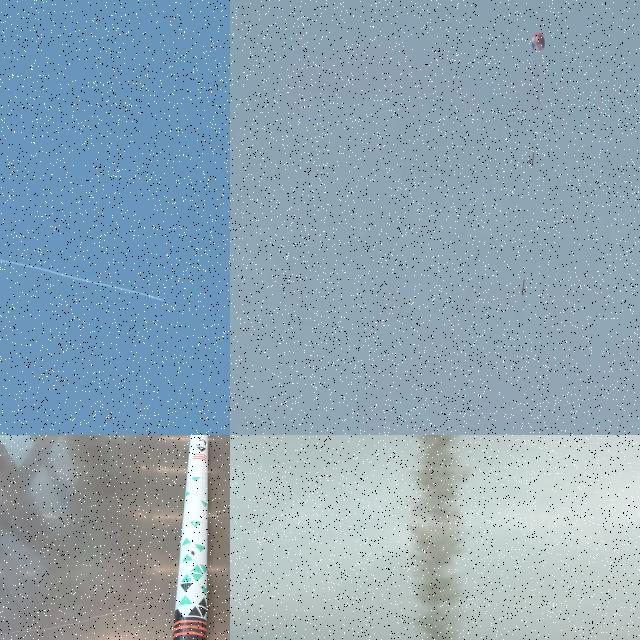Rocket: (172, 435, 208, 640), (164, 299, 171, 304), (522, 279, 524, 296)
